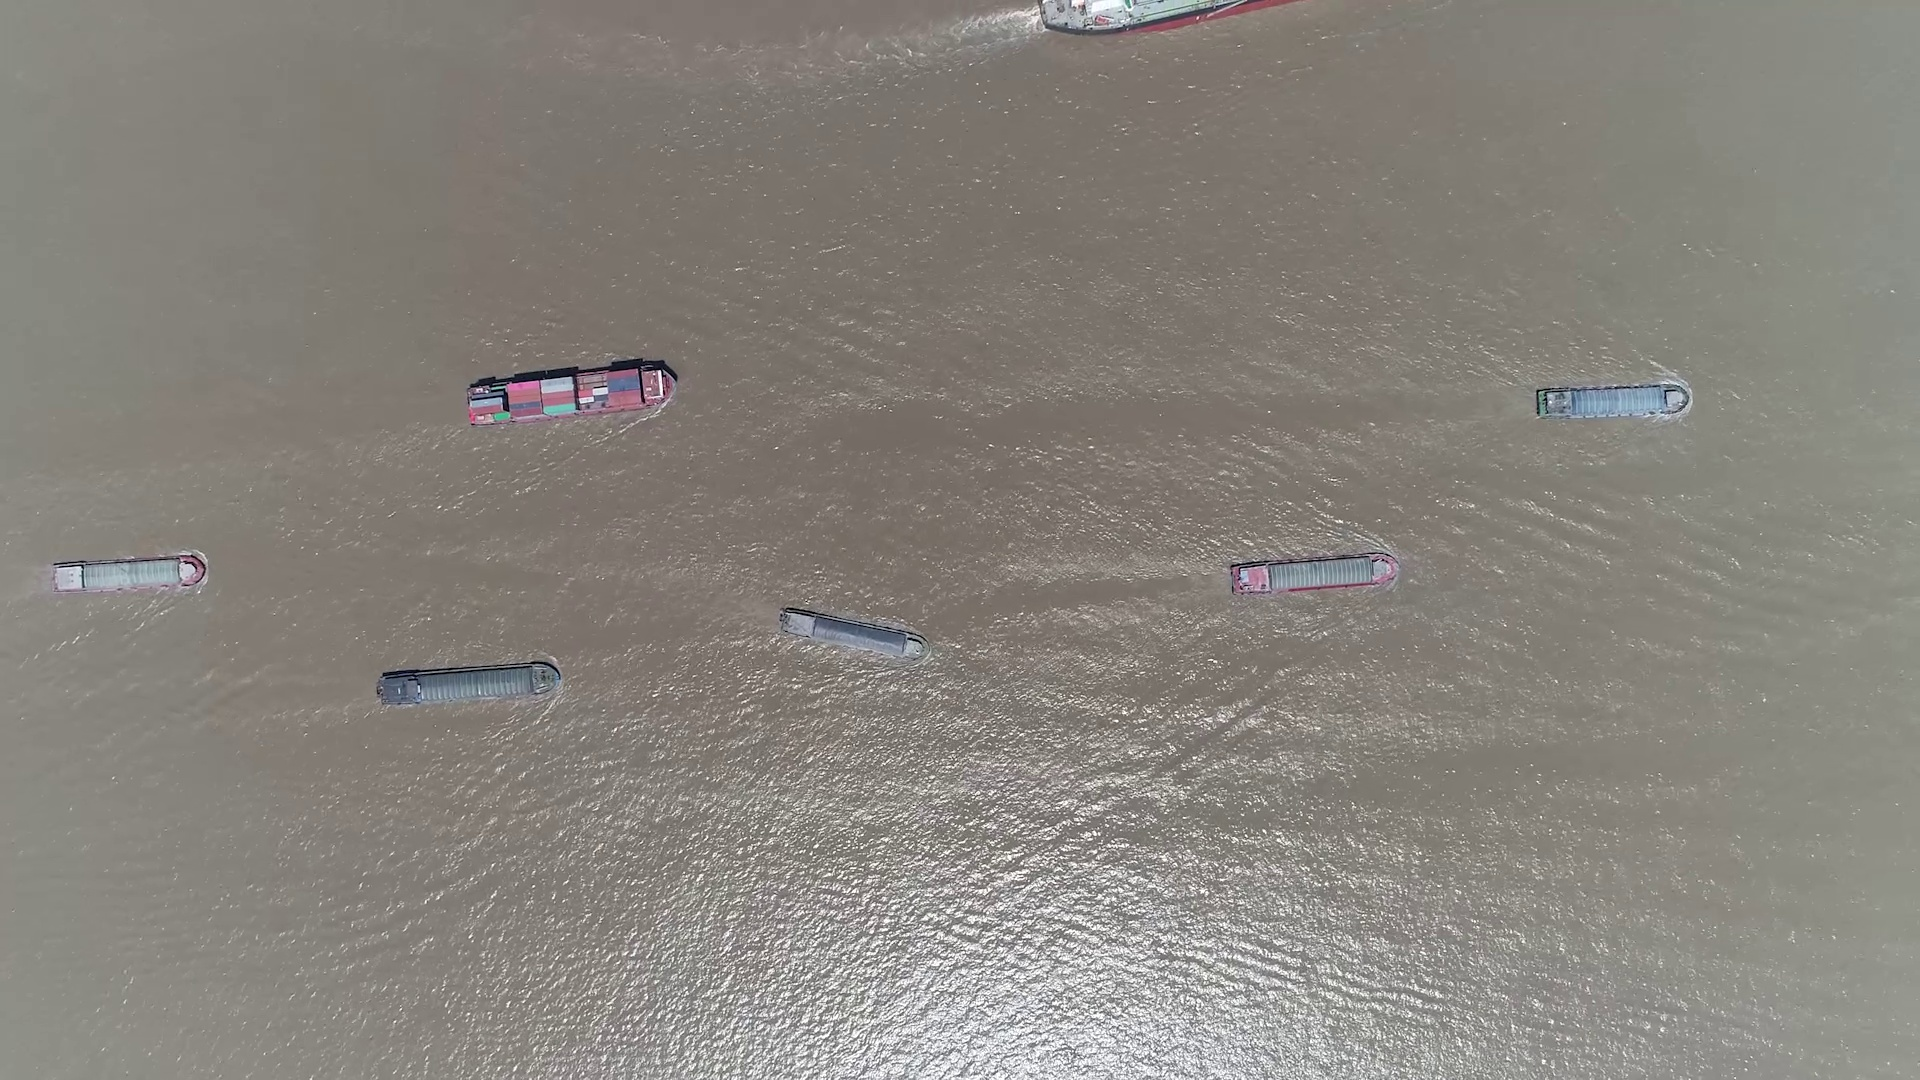ship: (468, 363, 678, 427), (378, 661, 562, 705), (777, 608, 926, 659), (1229, 553, 1400, 595), (1040, 3, 1302, 29), (51, 555, 204, 593), (1535, 382, 1687, 419)
